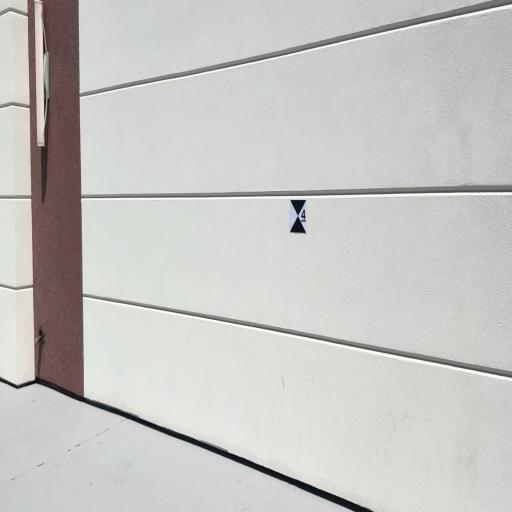target4: (289, 199, 307, 233)
